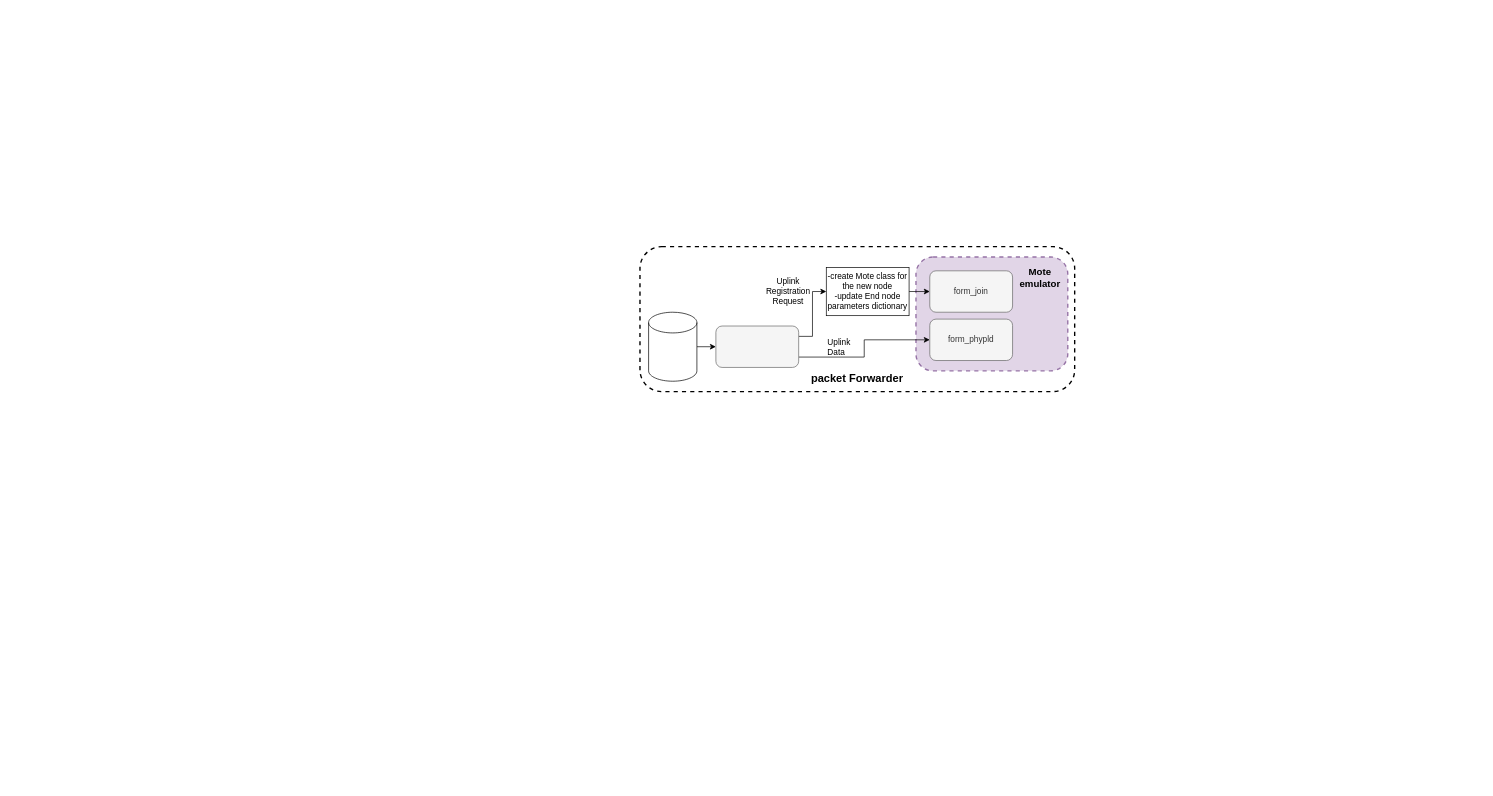
This 1493x796 diagram has some shape labels left out. Each missing label, with the centre of its shape:
NETWORK SERVER INPUT QUEUE: the point at 672,346
NSQueueCheck: the point at 757,346
